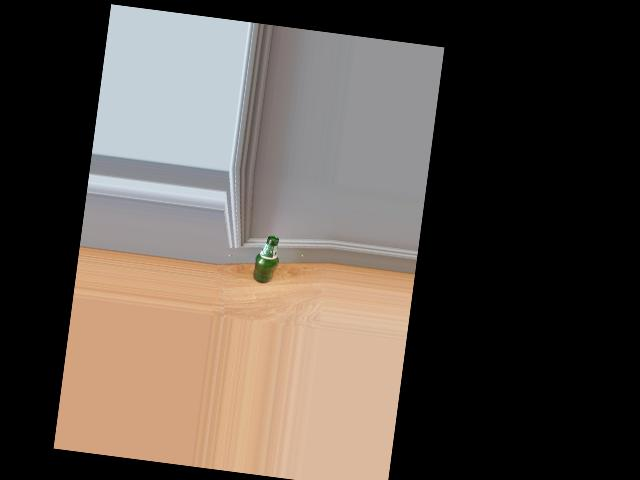beer: (251, 234, 281, 285)
